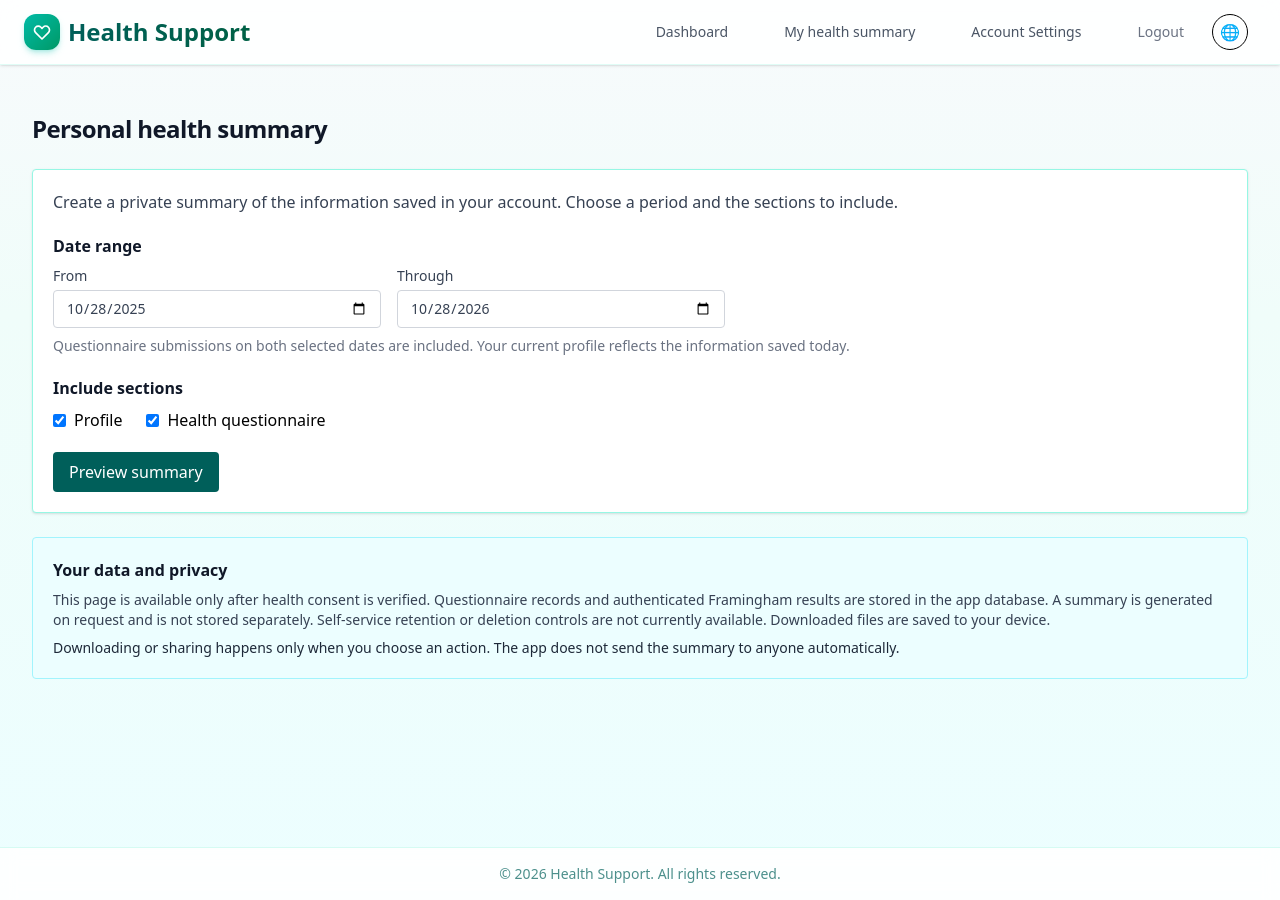
HealthSummary › does not request a preview when the date range is invalid
Type "2026-12-31" into the date field labelled "From" at point(217, 309), box [53,290,381,328]
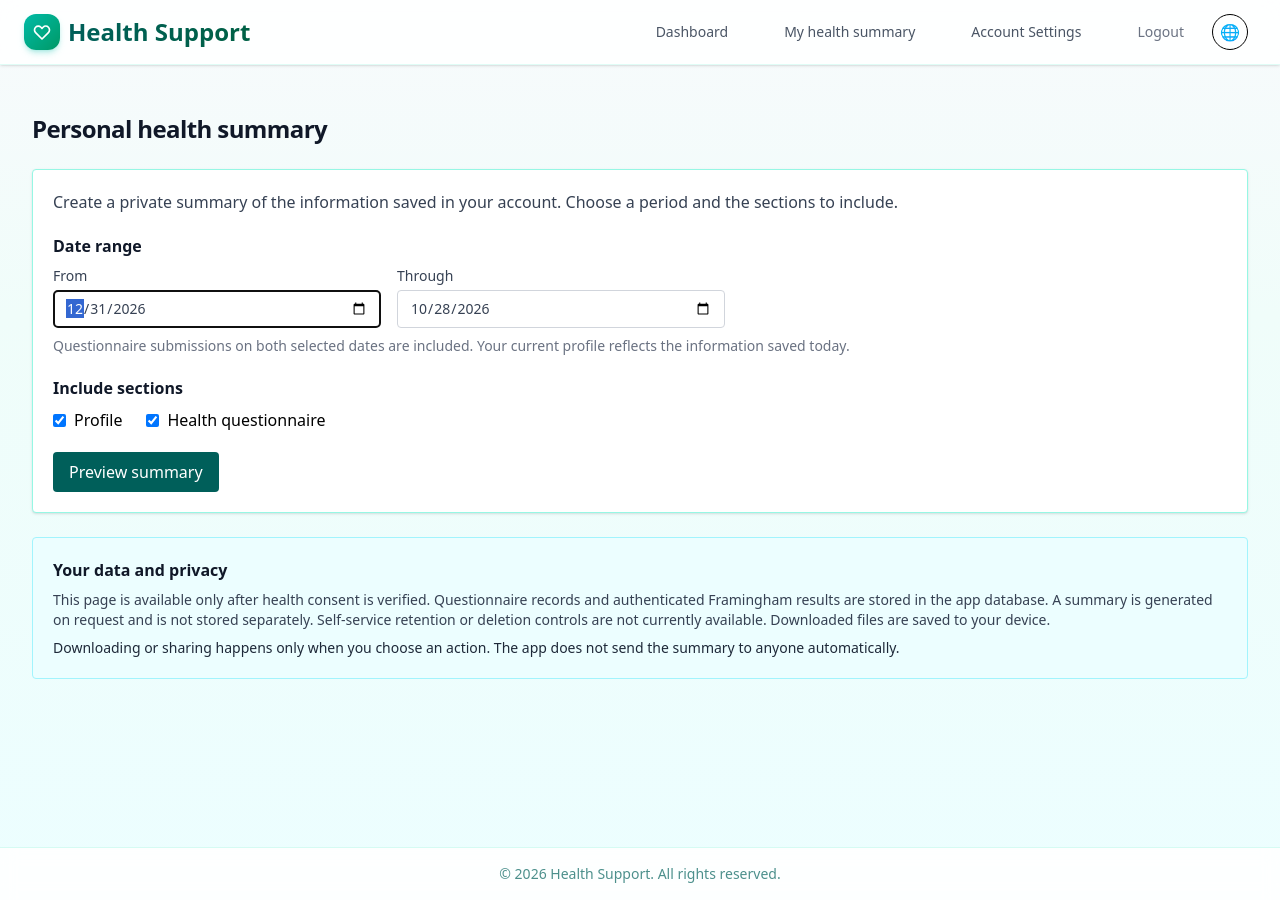
Type "2026-01-01" into the date field labelled "Through" at point(561, 309), box [397,290,725,328]
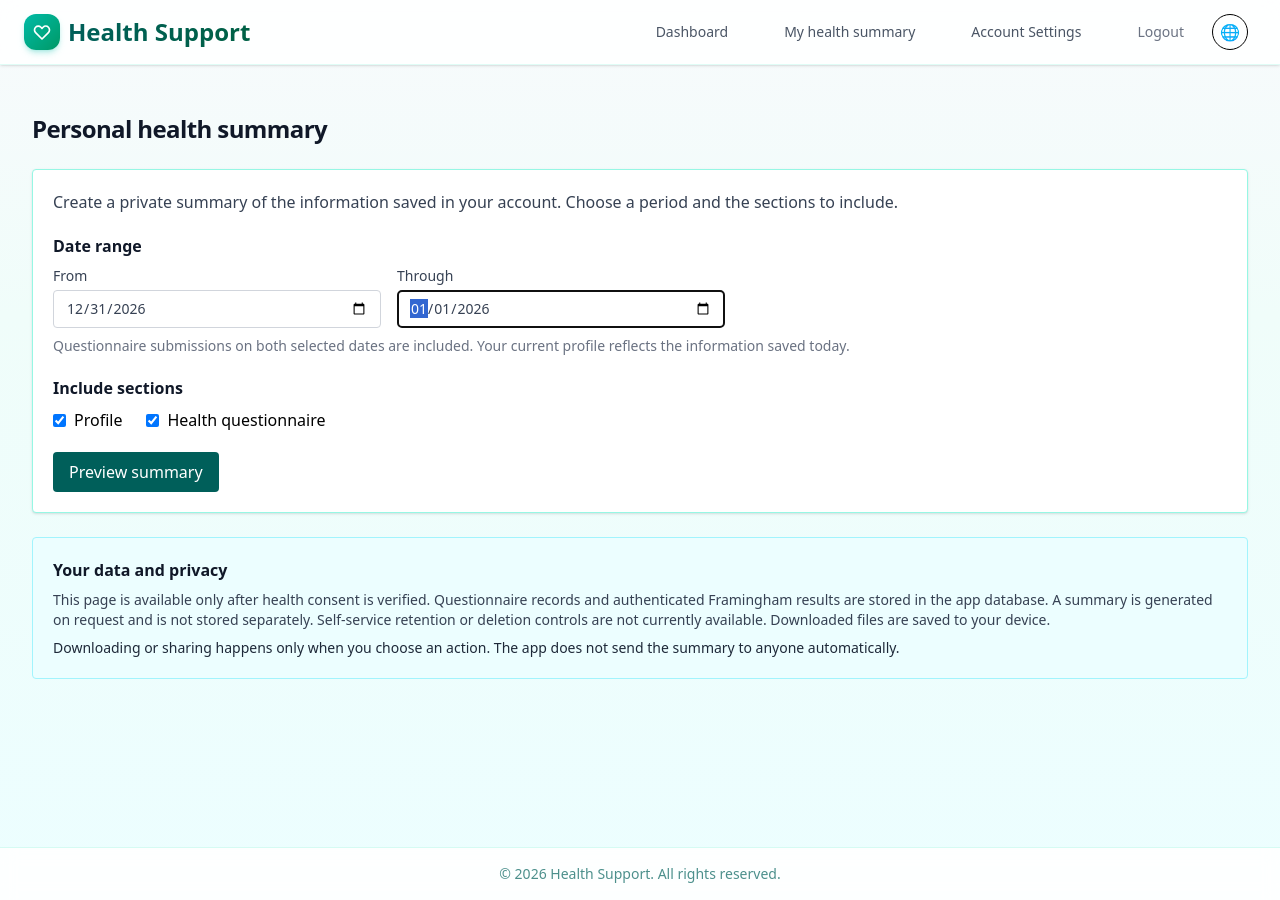
Click the button "Preview summary" at point(136, 472), box [53,452,219,492]
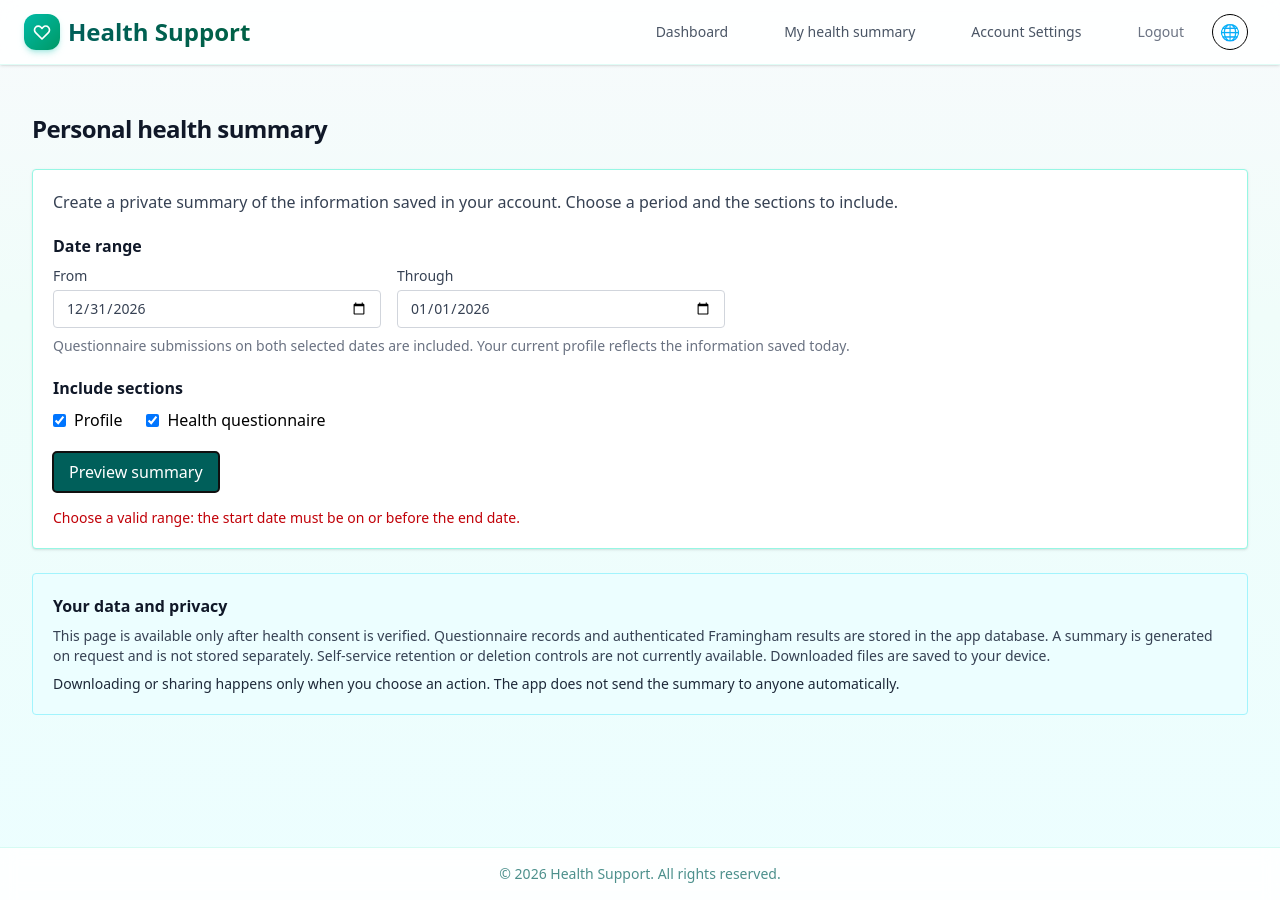
Now the message shows "start date must be on or before", box [53,508,520,527]
